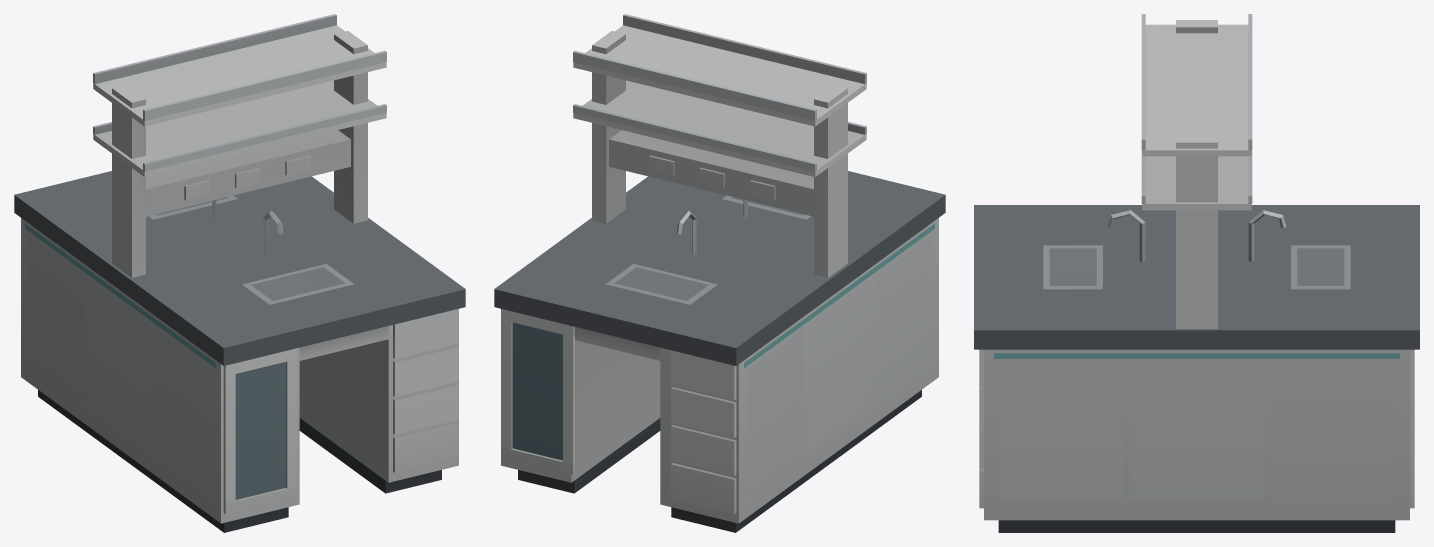
File: island.lod1.glb
3 views of the same model, side by side, from view 1: azimuth 30°, elevation 25°; view 2: azimuth 150°, elevation 25°; view 3: azimuth 270°, elevation 25° (orthographic). The views are drawn at different scales.
Size of the model in its own units: 1.2 by 1.78 by 1.8.
